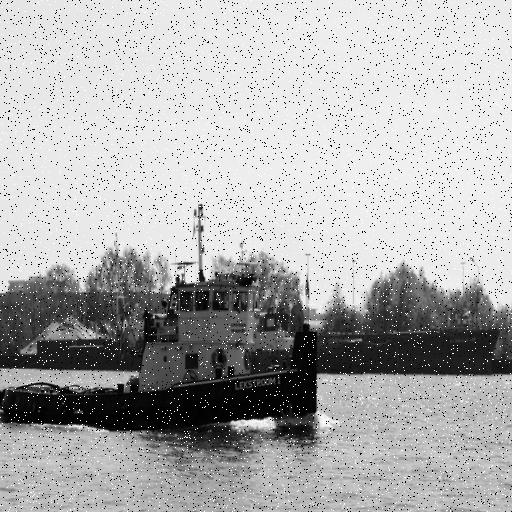tugboat: (1, 202, 323, 438)
